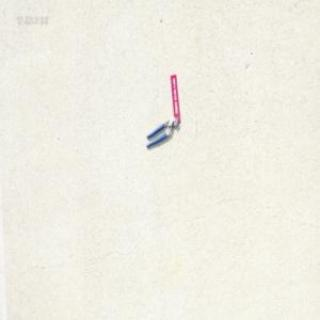LuggageTagtrack_idkeyframe: (169, 72, 180, 121)
Pliertrack_idkeyframe: (145, 114, 178, 148)
